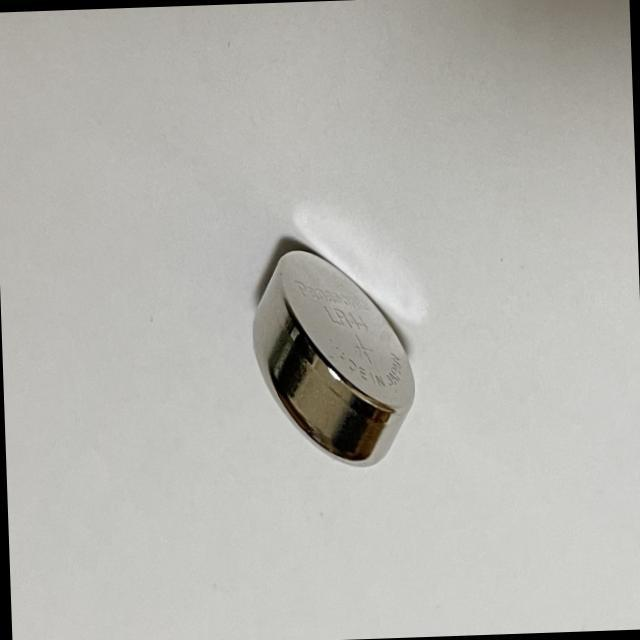COIN: (246, 232, 416, 468)
